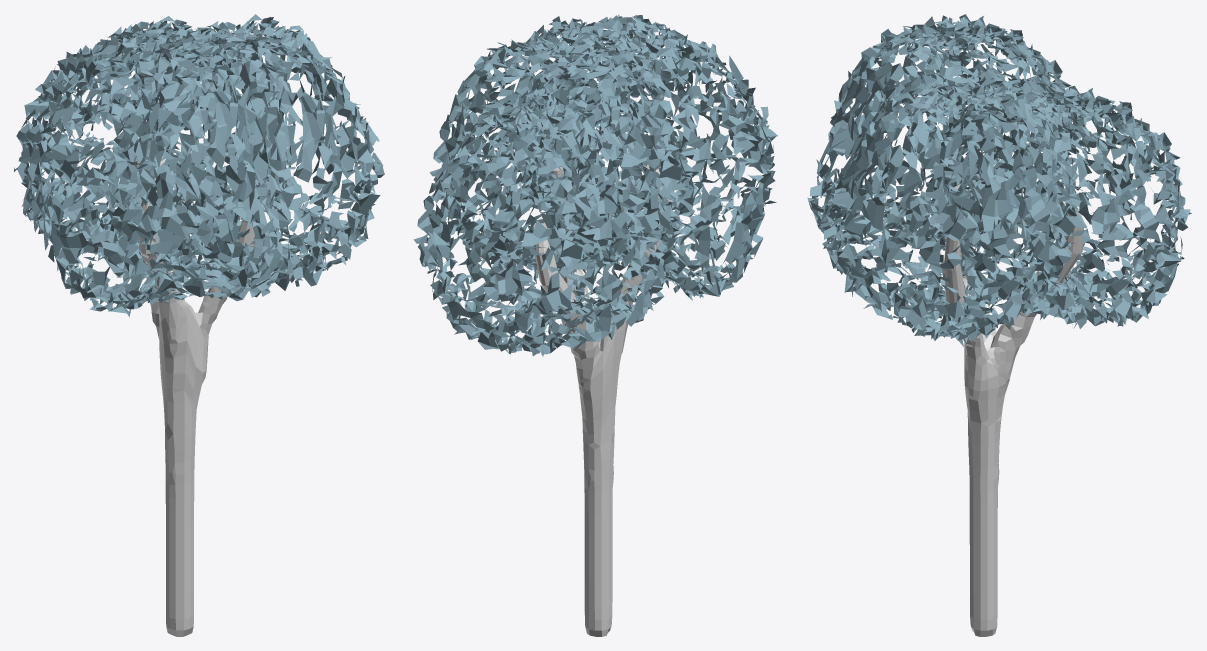
The model's file is skinny tree with leaves.fbx.
3 renders of one model, left to right at view 1: azimuth 30°, elevation 25°; view 2: azimuth 150°, elevation 25°; view 3: azimuth 270°, elevation 25°, orthographic. The views are drawn at different scales.
Parts seen in each view (by area): view 1: Cylinder.095; view 2: Cylinder.095; view 3: Cylinder.095.
Boxes of the visible parts, box(x1,y1,x2,y2) form: Cylinder.095: box(14, 14, 384, 636); Cylinder.095: box(413, 14, 777, 636); Cylinder.095: box(807, 14, 1191, 636).
Size of the model in its own units: 365 by 660 by 389.
